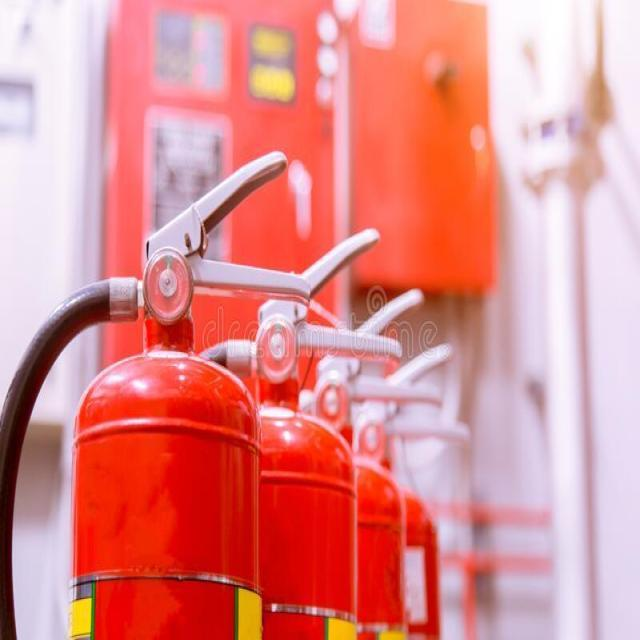fire_extinguisher: (0, 144, 316, 638), (147, 219, 406, 639)
